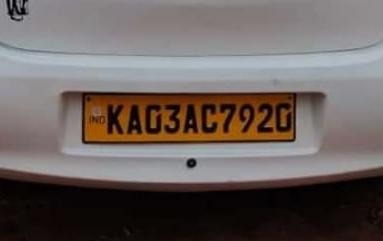0: (143, 103, 163, 137), (275, 99, 294, 134)
2: (256, 100, 275, 137)
3: (163, 101, 181, 137)
7: (219, 100, 238, 136)
9: (237, 101, 256, 137)
A: (125, 99, 143, 138), (182, 102, 201, 138)
C: (199, 102, 218, 134)
K: (105, 100, 125, 139)
